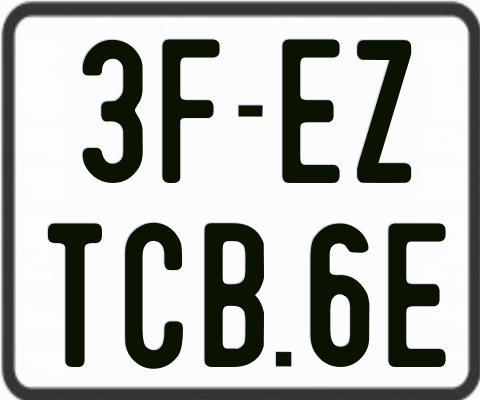3: (81, 37, 147, 185)
6: (310, 221, 375, 368)
B: (203, 221, 265, 369)
C: (122, 221, 183, 369)
E: (281, 38, 342, 188), (385, 223, 448, 367)
F: (161, 39, 222, 183)
T: (45, 222, 102, 370)
Z: (355, 38, 411, 185)
